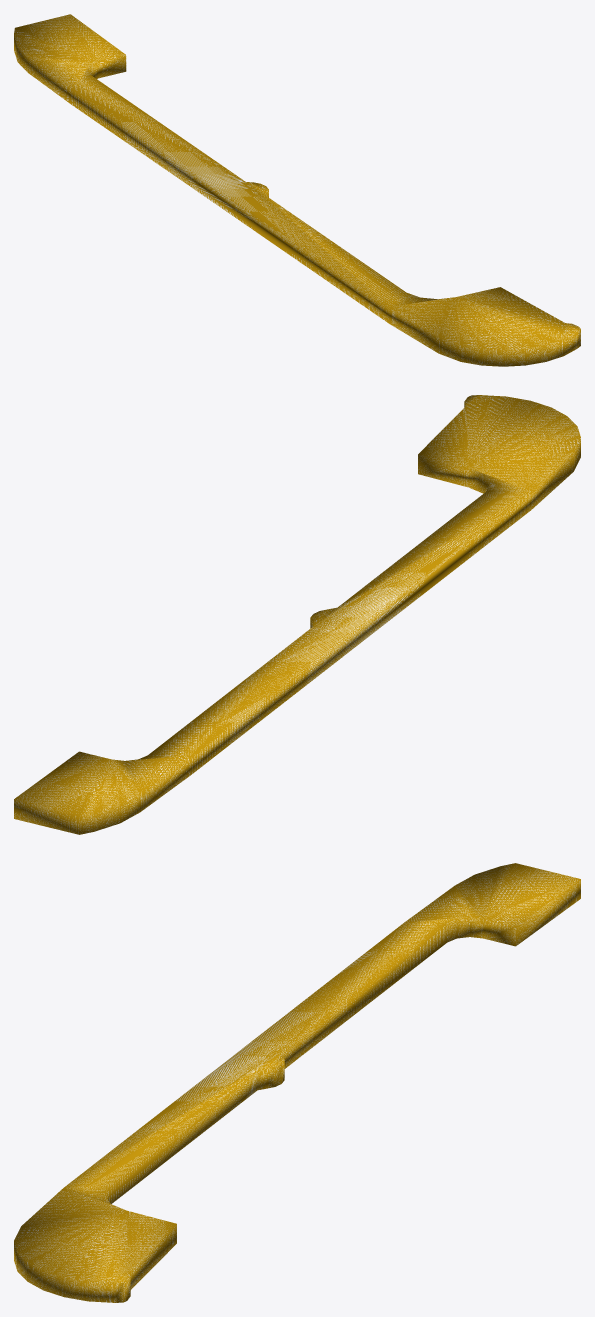
File: original-34.obj
3 views of the same model, one above another, from view 1: azimuth 30°, elevation 25°; view 2: azimuth 150°, elevation 25°; view 3: azimuth 330°, elevation 25° (orthographic). The views are drawn at different scales.
Parts seen in each view (by area): view 1: mesh30/mesh30-geometry#mesh30-geometry; view 2: mesh30/mesh30-geometry#mesh30-geometry; view 3: mesh30/mesh30-geometry#mesh30-geometry.
Part boxes in pixels (x1,y1,x2,y2): mesh30/mesh30-geometry#mesh30-geometry: [14, 14, 580, 366]; mesh30/mesh30-geometry#mesh30-geometry: [14, 395, 580, 834]; mesh30/mesh30-geometry#mesh30-geometry: [14, 863, 580, 1302].
Bounding box in the file's own units: 0.1737 × 0.0205 × 1.01.
